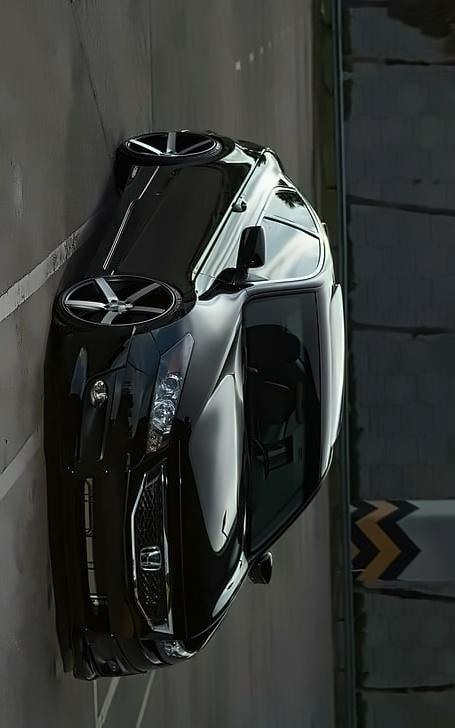Car hood: (168, 292, 255, 657)
Fender - -F-R-: (73, 266, 254, 349)
Fender - -R-R-: (152, 141, 277, 178)
Front bumper: (37, 317, 146, 689)
Headlight - -L-: (150, 628, 199, 670)
Headlight - -R-: (145, 329, 197, 462)
Passenger-s door - -R-L-: (107, 182, 330, 274)
Side bumper - -R-: (79, 151, 163, 279)
Side mirror - -L-: (245, 547, 281, 598)
Side mirror - -R-: (232, 220, 272, 276)
